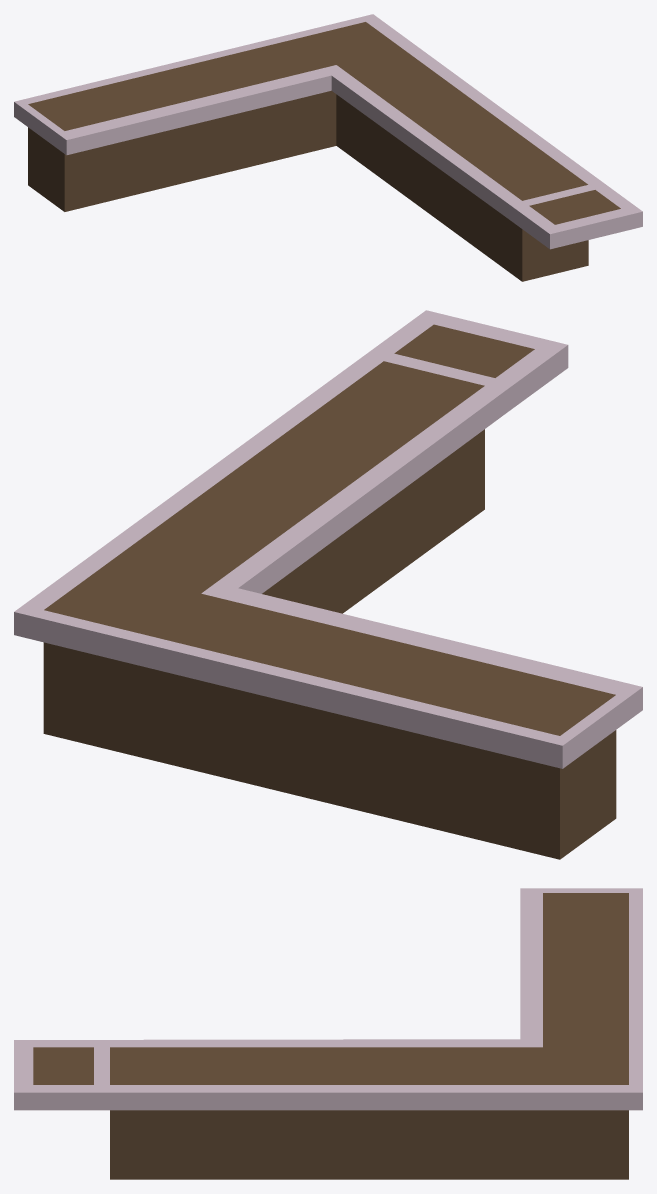
Rendered from hospital reception.fbx.
The picture shows the model from 3 angles, top to bottom: view 1: azimuth 30°, elevation 25°; view 2: azimuth 150°, elevation 25°; view 3: azimuth 270°, elevation 25°; orthographic projection. The views are drawn at different scales.
Visible parts, largest first — view 1: reception; view 2: reception; view 3: reception.
Part boxes in pixels (<box>): reception: <box>14,14,642,281</box>; reception: <box>14,310,642,859</box>; reception: <box>14,888,642,1179</box>.
Bounding box in the file's own units: 15.55 × 3.35 × 20.23.
